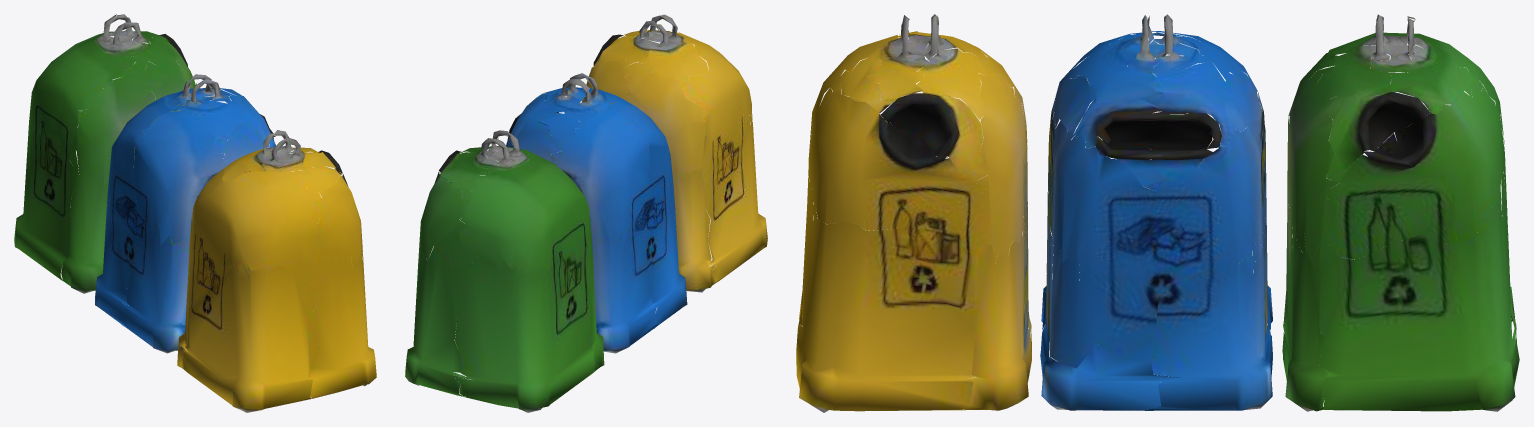
File: bins.glb
3 views of the same model, side by side, from view 1: azimuth 30°, elevation 25°; view 2: azimuth 150°, elevation 25°; view 3: azimuth 270°, elevation 25° (orthographic). The views are drawn at different scales.
Visible parts, largest first — view 1: tripo_node_7a610741-0352-4746-8f23-b713d1afae87; view 2: tripo_node_7a610741-0352-4746-8f23-b713d1afae87; view 3: tripo_node_7a610741-0352-4746-8f23-b713d1afae87.
Boxes of the visible parts, <box> form: tripo_node_7a610741-0352-4746-8f23-b713d1afae87: <box>14,14,376,412</box>; tripo_node_7a610741-0352-4746-8f23-b713d1afae87: <box>405,14,767,412</box>; tripo_node_7a610741-0352-4746-8f23-b713d1afae87: <box>796,14,1519,412</box>.
Size of the model in its own units: 0.6333 by 1 by 1.85.
1 material, 1 textured.
